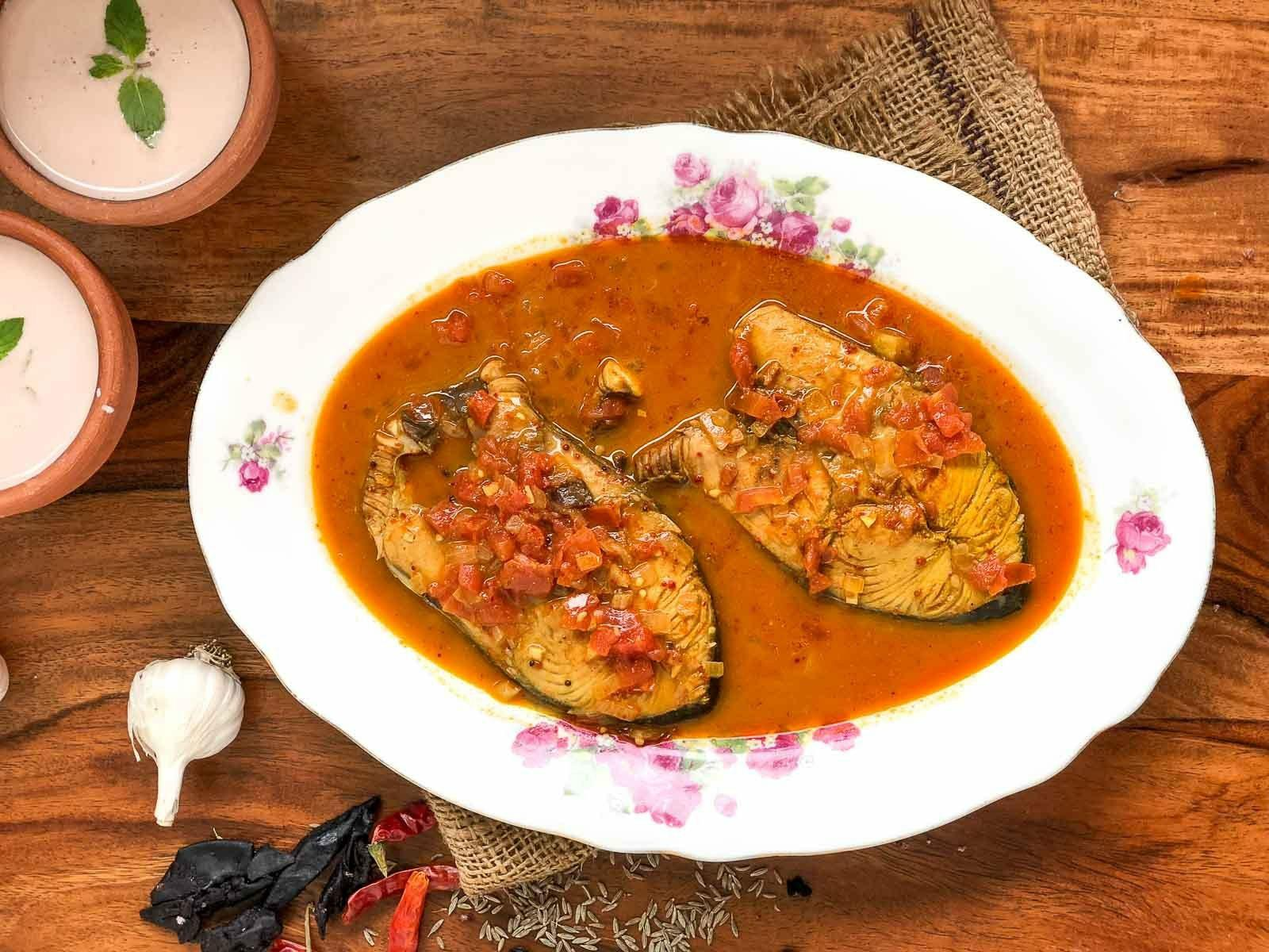FishCurry: (320, 235, 1086, 748)
